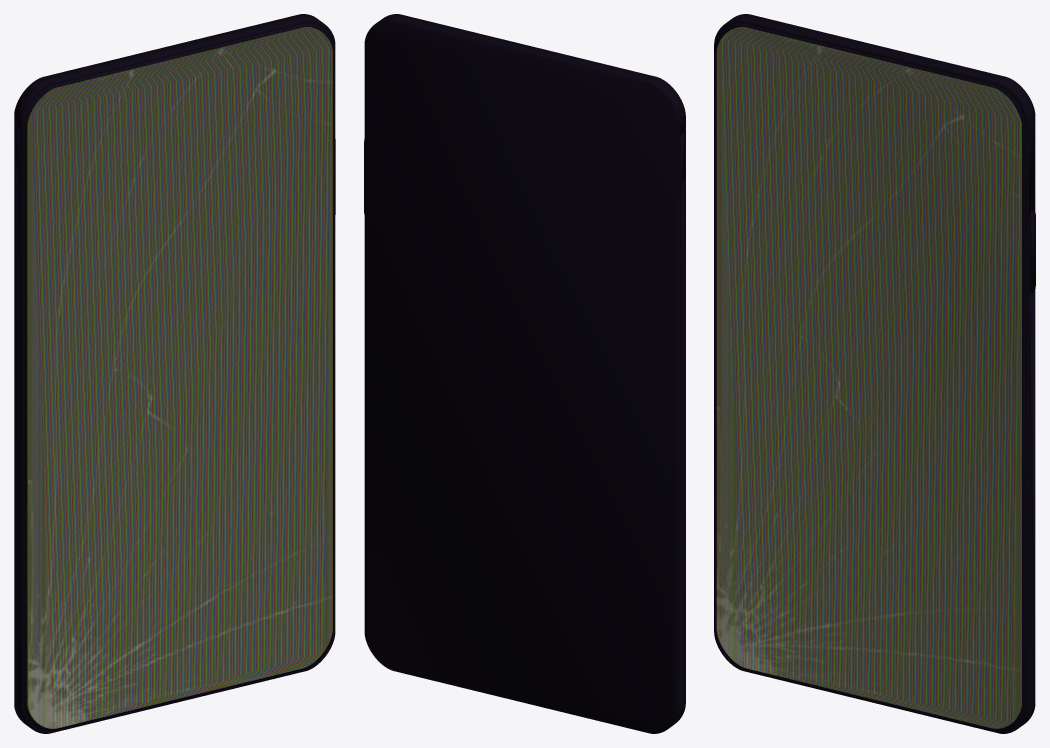
File: huawei_phone.glb
The picture shows the model from 3 angles, left to right: view 1: azimuth 30°, elevation 25°; view 2: azimuth 150°, elevation 25°; view 3: azimuth 330°, elevation 25°; orthographic projection.
Visible parts, largest first — view 1: phone, screen; view 2: phone; view 3: phone, screen.
Boxes of the visible parts, x1,y1,x2,y2 form: phone: [14, 14, 335, 733]; screen: [27, 27, 332, 728]; phone: [364, 14, 685, 733]; phone: [714, 14, 1035, 733]; screen: [716, 27, 1021, 728].
Bounding box in the file's own units: 2.28 × 4.51 × 0.1277.
3 materials, 2 textured.
